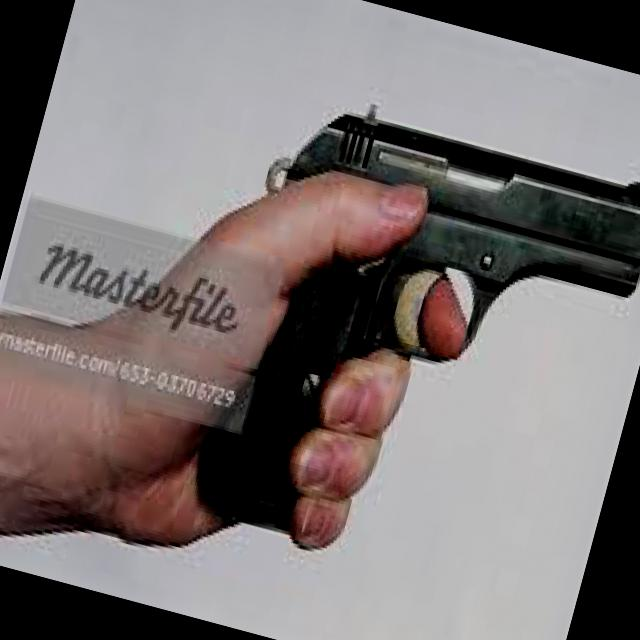handgun: (182, 73, 639, 613)
